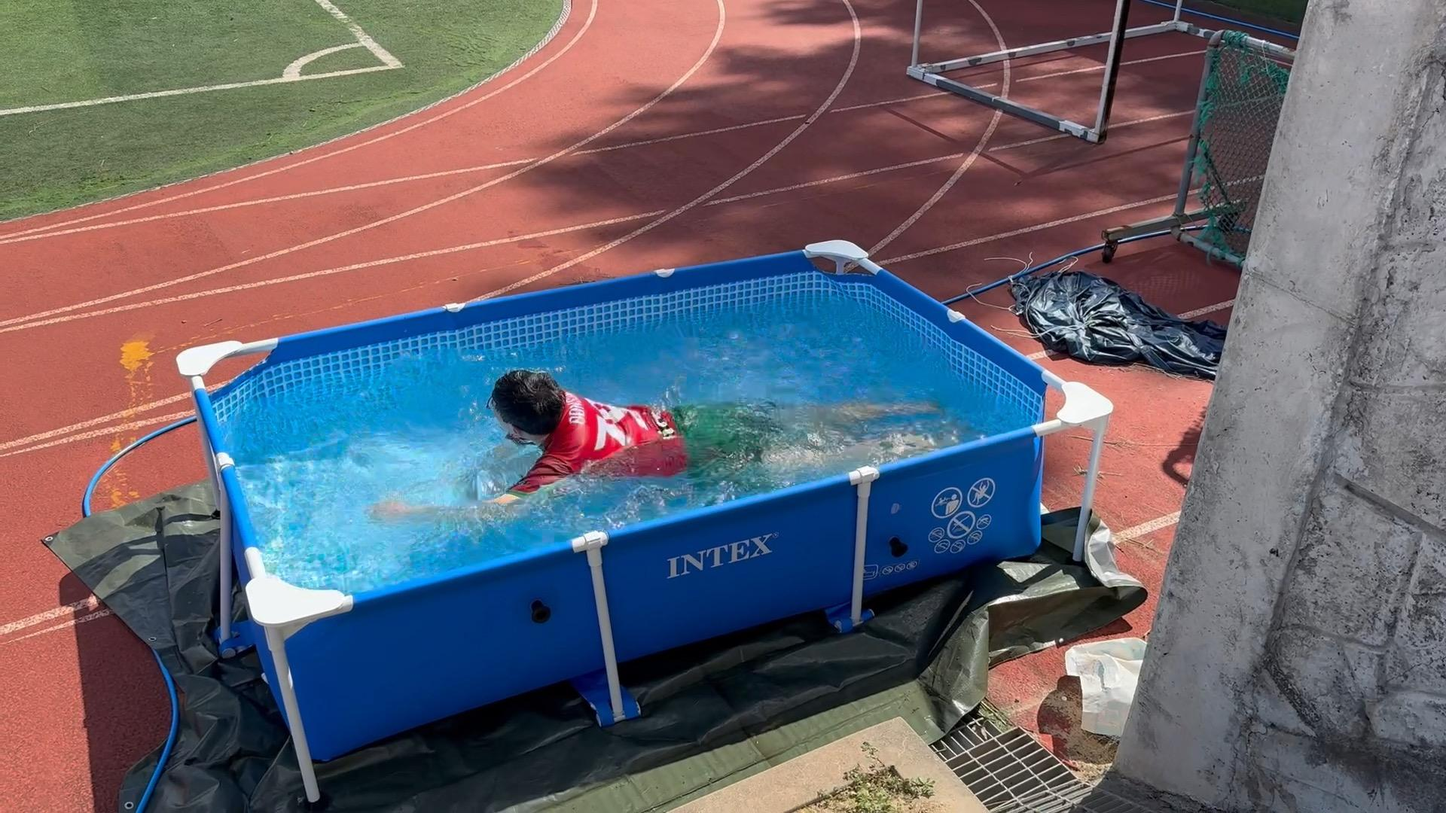Swimming: (350, 336, 973, 560)
